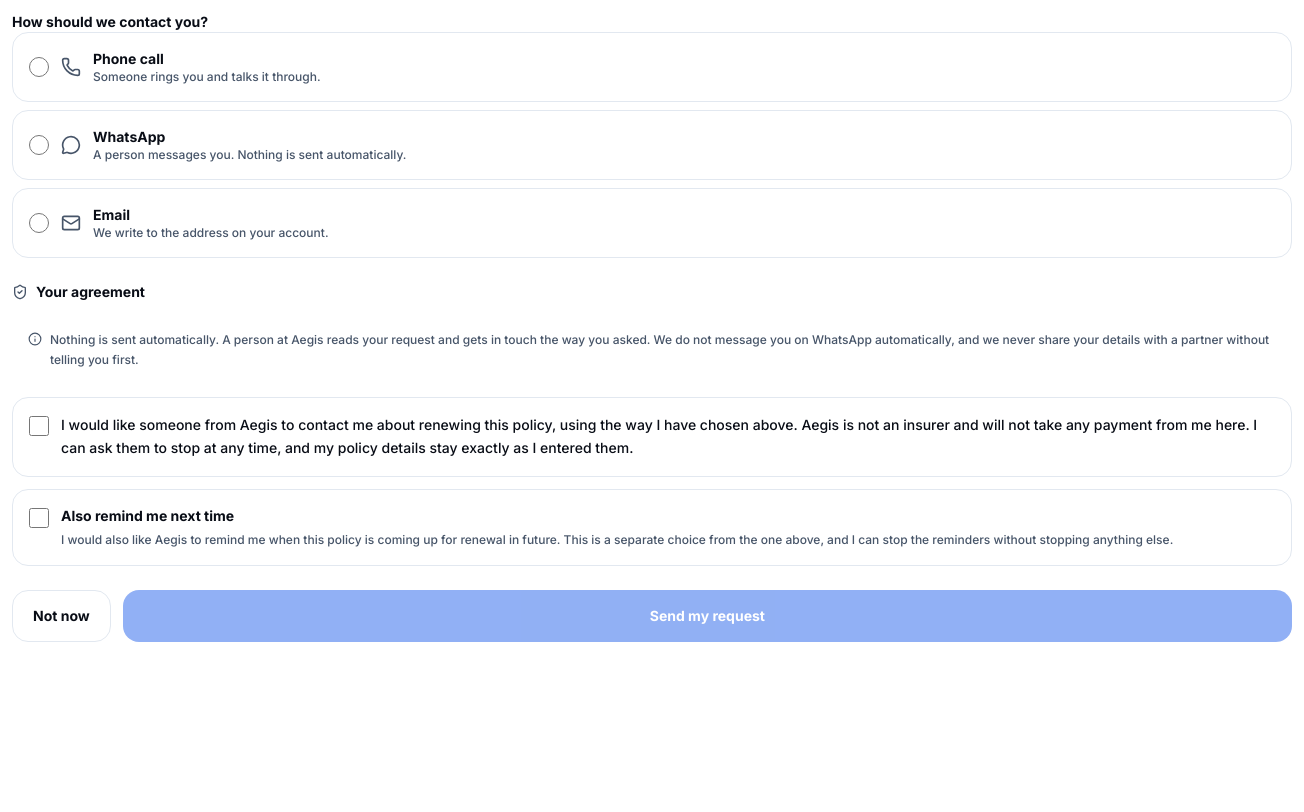
Test: the number › holds the request back until it is given
Click the label with test id "channel-CALL" at (128, 58), box [12,32,1292,102]
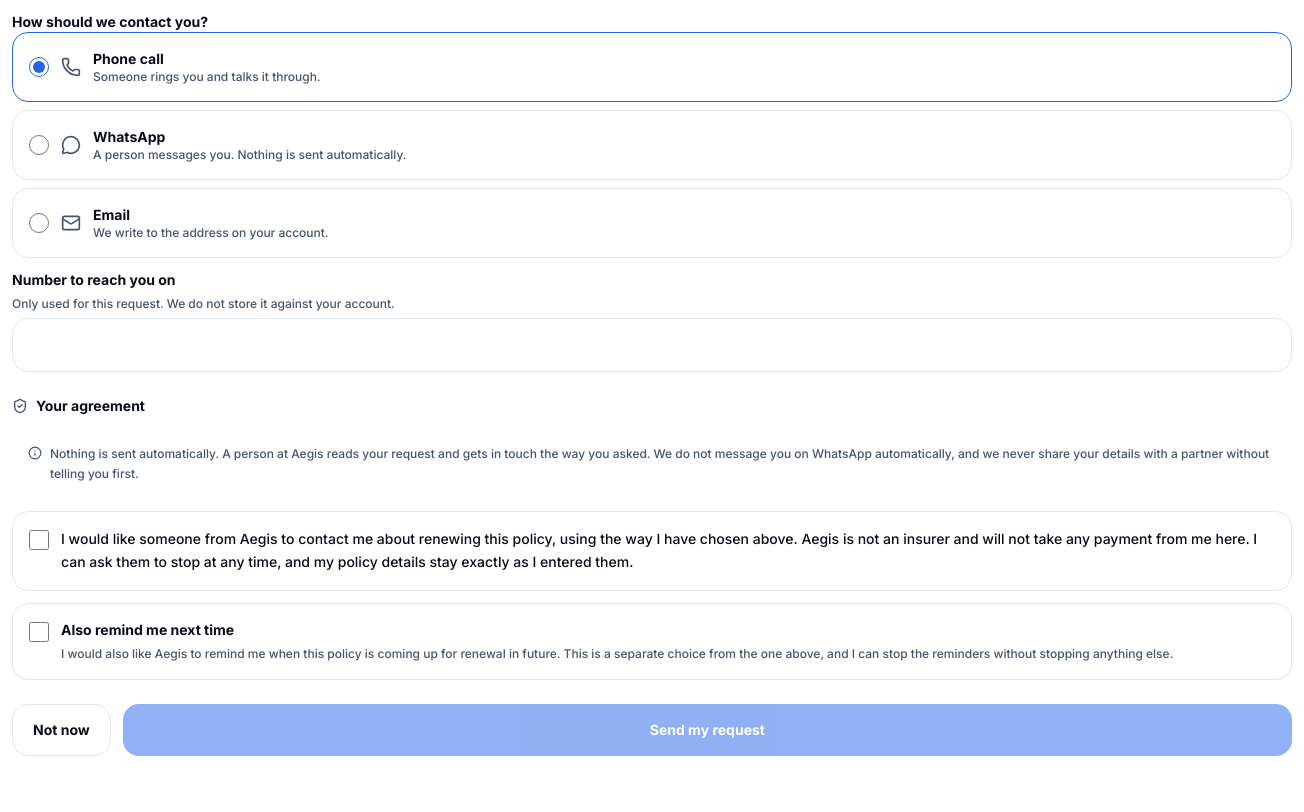
Click the 1st checkbox at (39, 540), box [29,530,49,550]
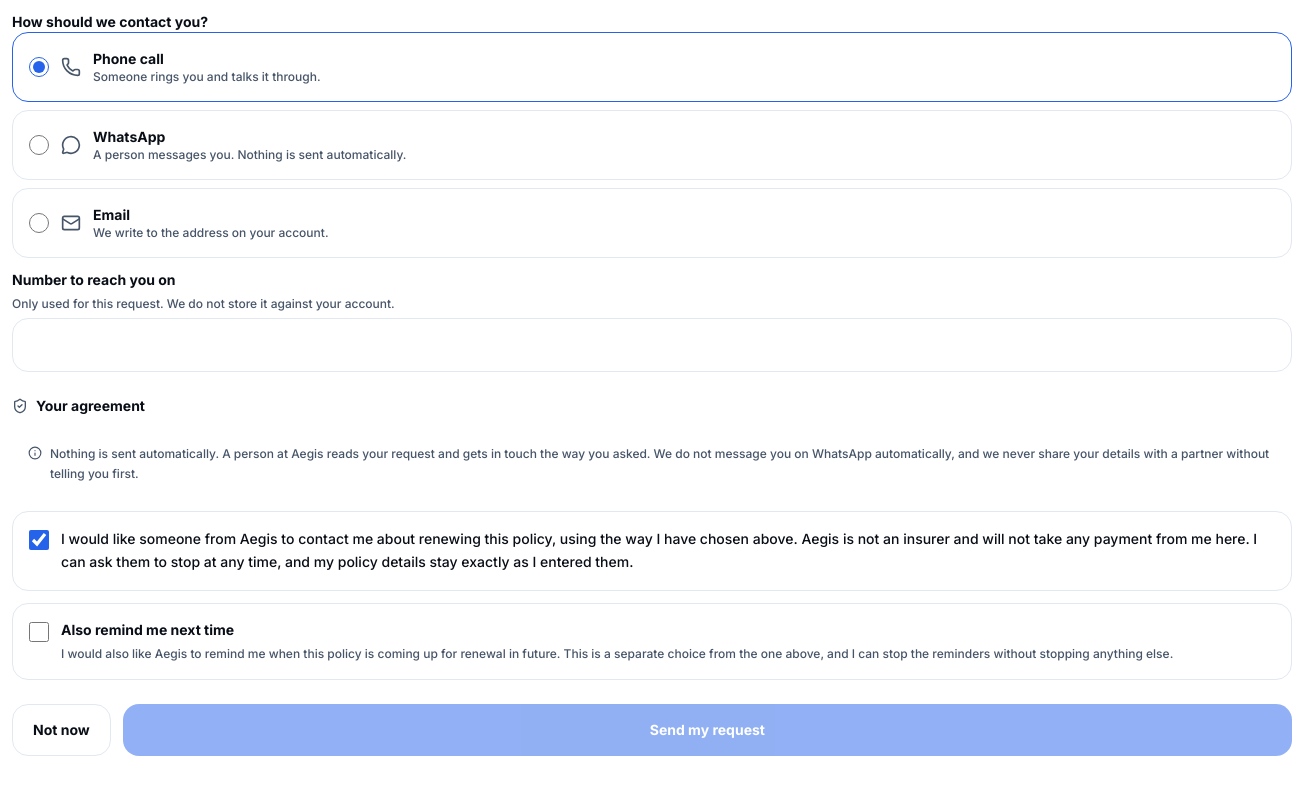
Check: the button with test id "consent-submit" is disabled, box [123,704,1292,756]
Type "+91 98400 12345" into the field named "contactPhone" at (652, 345), box [12,318,1292,372]
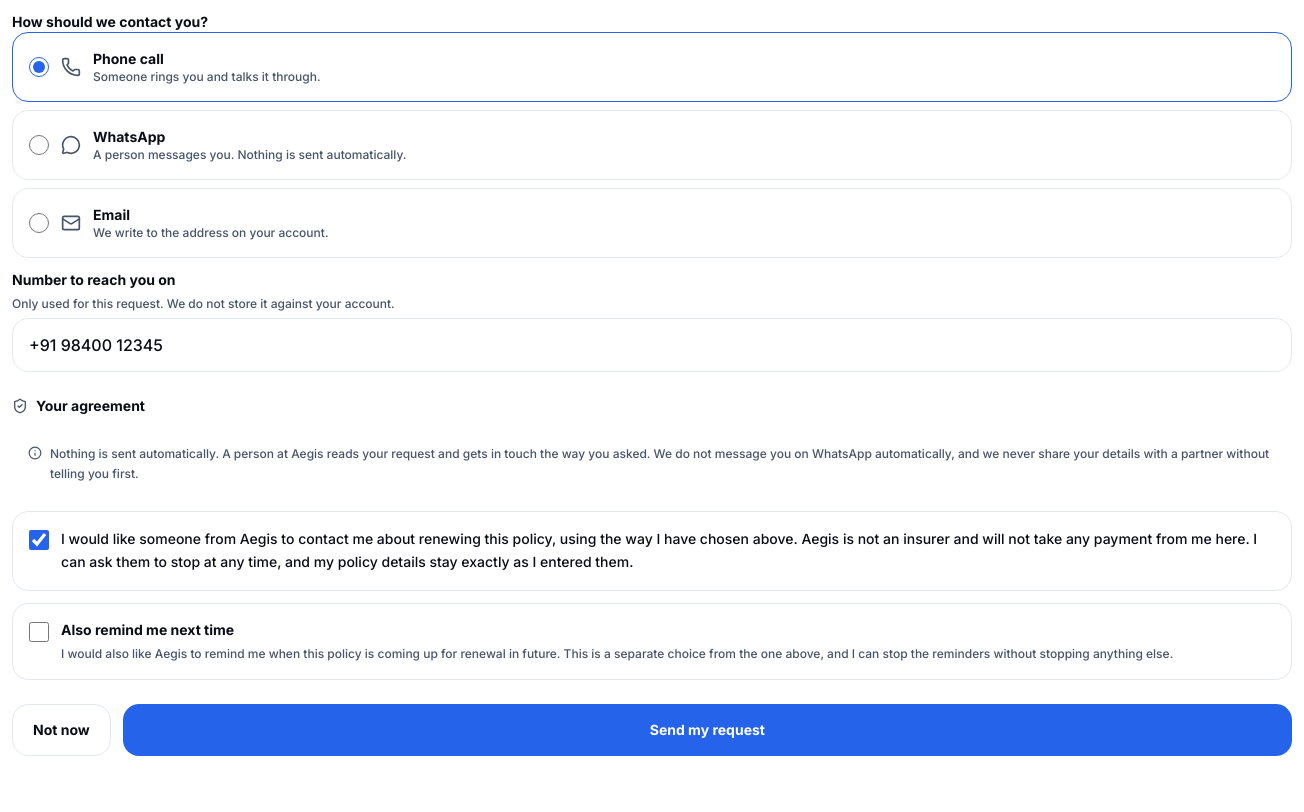
Check: the button with test id "consent-submit" is enabled, box [123,704,1292,756]
